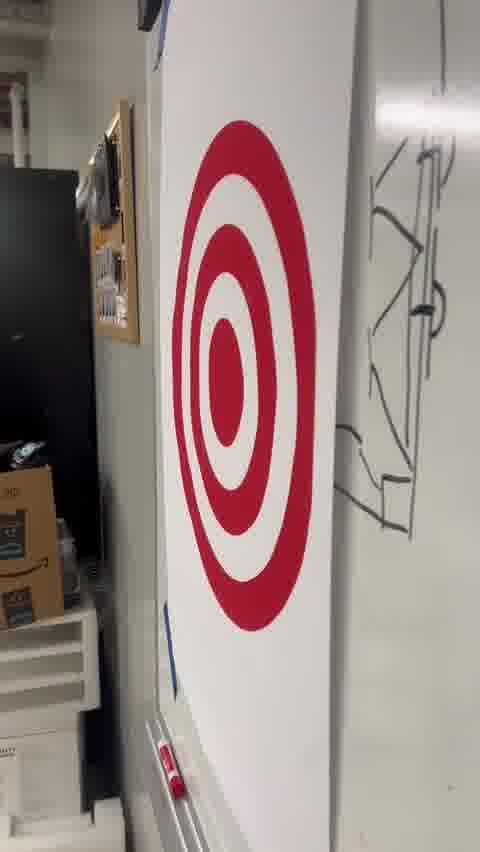target_red: (174, 124, 318, 631)
